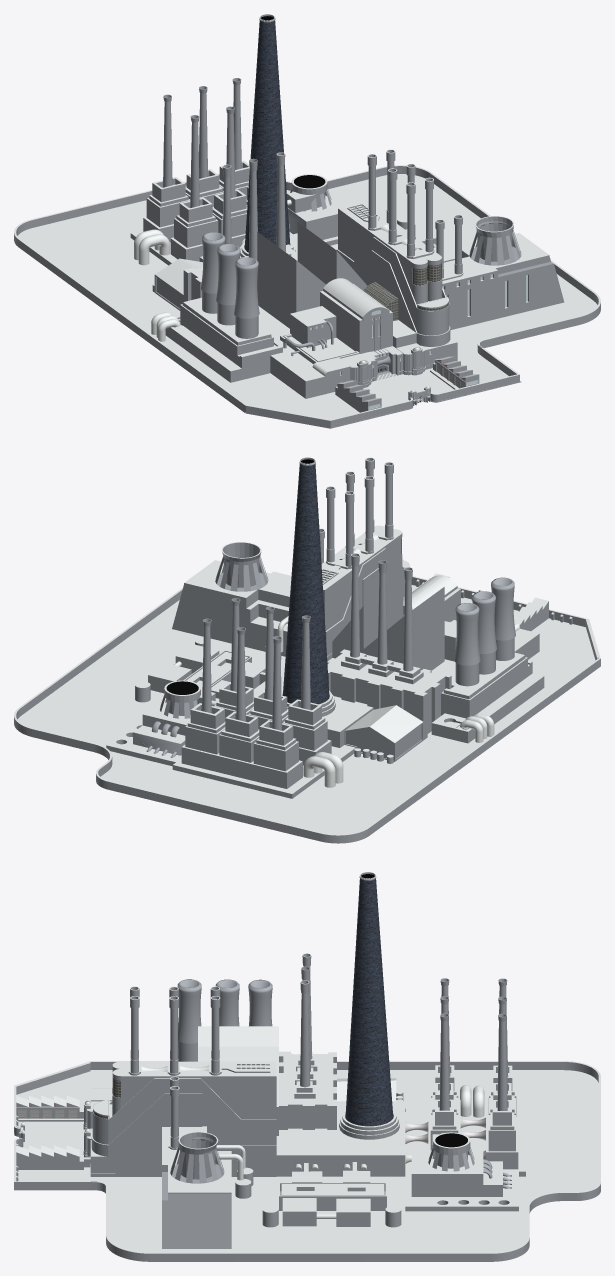
The model's file is chocolateFactory.gltf.
The picture shows the model from 3 angles, top to bottom: view 1: azimuth 30°, elevation 25°; view 2: azimuth 150°, elevation 25°; view 3: azimuth 270°, elevation 25°; orthographic projection. The views are drawn at different scales.
Visible parts, largest first — view 1: Material2 (×3), Material3 (×2); view 2: Material2 (×3), Material3; view 3: Material2 (×3), Material3 (×2).
Part boxes in pixels (x1,y1,x2,y2): Material2 (×3): (14, 14, 600, 428); Material3 (×2): (244, 20, 448, 320); Material2 (×3): (14, 457, 600, 843); Material3: (282, 463, 329, 704); Material2 (×3): (14, 872, 600, 1261); Material3 (×2): (345, 878, 485, 1163).
Bounding box in the file's own units: 32723 × 21713 × 42129.
15 materials, 4 textured.
